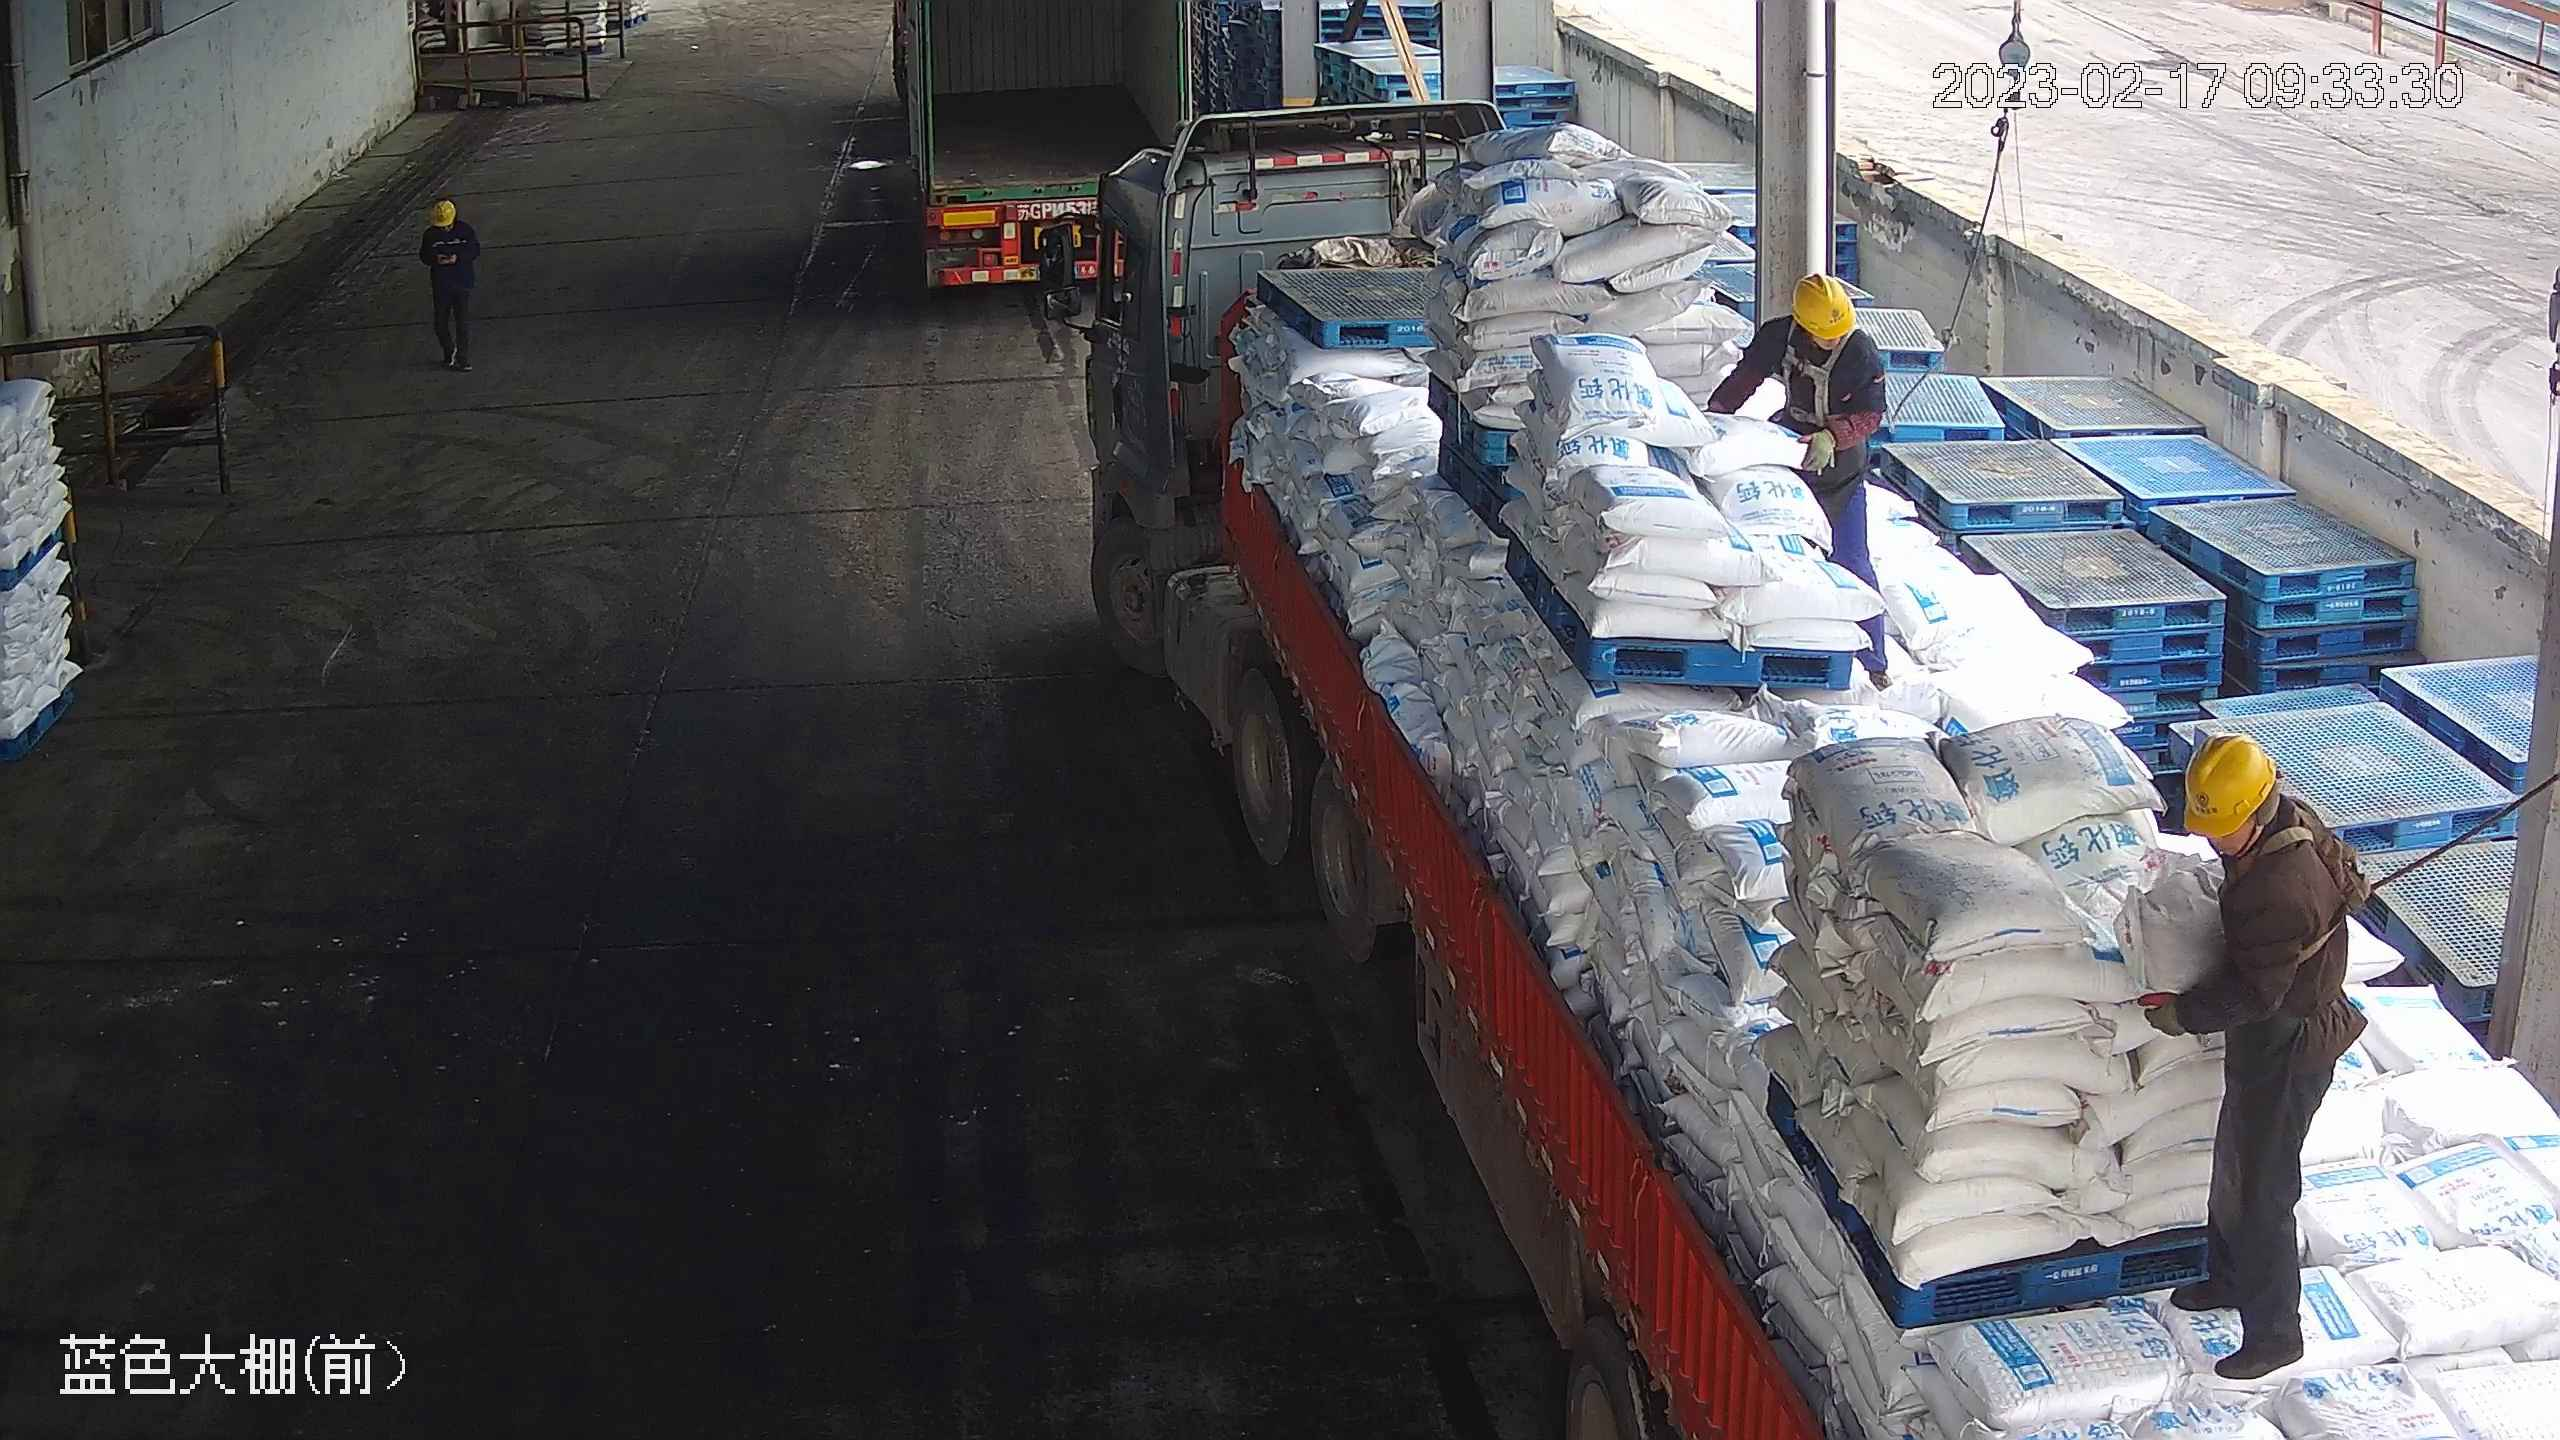belt: (2235, 798, 2374, 964), (1782, 320, 1853, 425)
head: (2169, 729, 2353, 919), (1759, 270, 1885, 377), (419, 199, 477, 247)
helmet: (2177, 728, 2281, 838), (1788, 269, 1857, 344), (426, 199, 458, 224)
people: (2132, 729, 2366, 1385), (1703, 263, 1901, 679), (416, 197, 483, 371)
truck: (1031, 97, 2560, 1440), (886, 1, 1195, 295)
